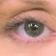eye: (25, 20, 42, 37)
